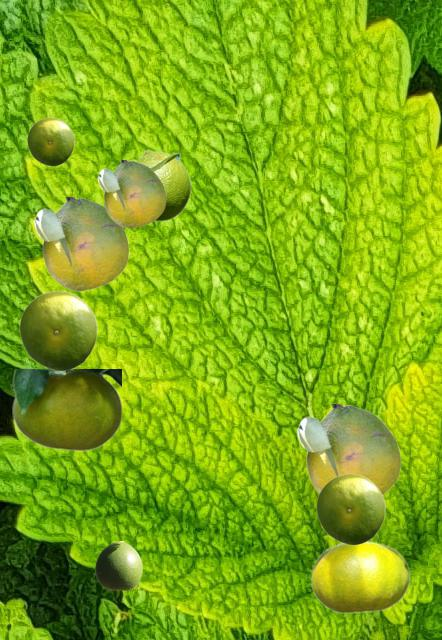dalandan: (296, 404, 400, 494), (33, 197, 128, 290), (12, 369, 120, 450), (310, 541, 409, 613), (19, 290, 96, 370), (316, 473, 384, 544), (97, 160, 165, 227), (135, 149, 191, 221), (27, 117, 73, 165), (95, 541, 141, 589)
